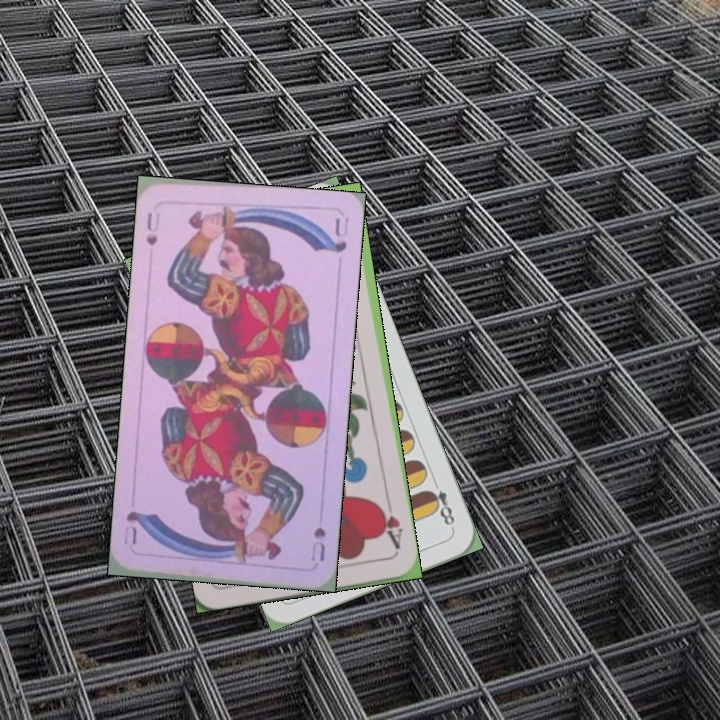E8: (423, 475, 458, 532)
HA: (375, 499, 405, 555)
SU: (307, 522, 328, 565), (142, 208, 160, 249)
